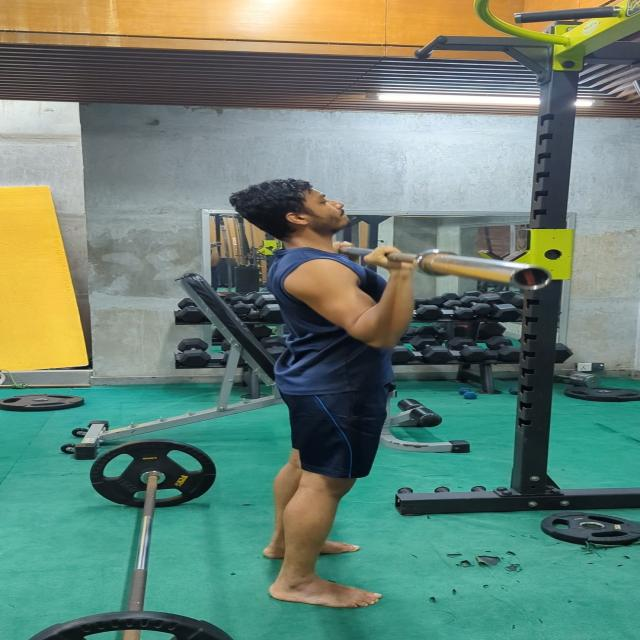Normal_OverheadPress: (190, 146, 459, 616)
